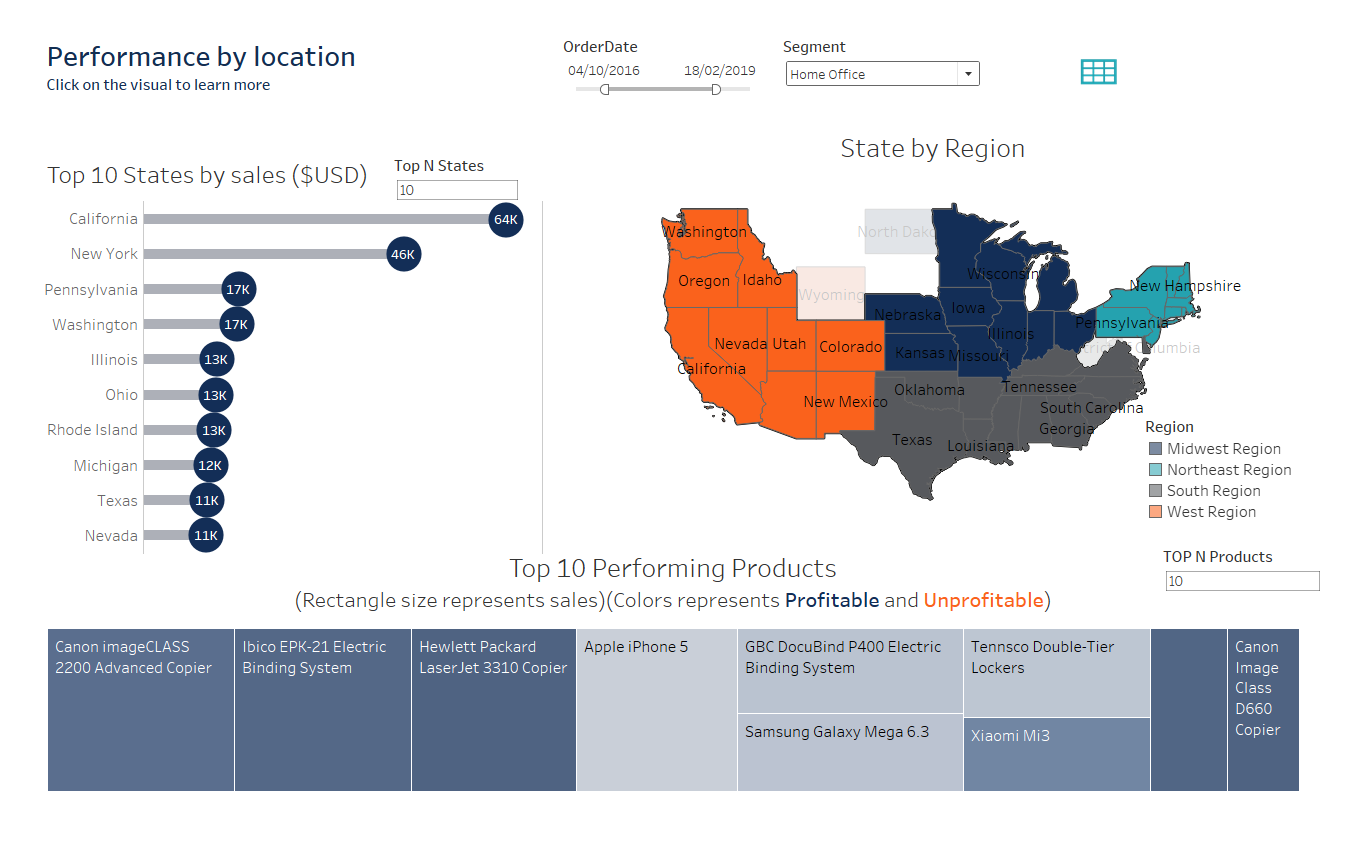

This screenshot's page, from the dashboard's own definition file:
{"tool":"tableau","page":{"name":"Performance by location Dashboard","canvas":[1300,800],"ordinal":0},"visuals":[{"type":"text","box":[20,20,500,60]},{"type":"filter","title":"SalesByState_LOL","param":"[federated.12y03hx0rq7voi18qg58o0swesog].[none:OrderDate:qk]","box":[540,20,200,60]},{"type":"filter","title":"SalesByState_LOL","param":"[federated.12y03hx0rq7voi18qg58o0swesog].[none:Segment:nk]","box":[760,20,200,60]},{"type":"dashboard-object","box":[1023,34,104,43]},{"type":"worksheet","title":"SalesByState","mark":"Automatic","rows":["State"],"cols":["OrderDate"],"box":[541,107,737,403]},{"type":"worksheet","title":"Sales_Map","mark":"Multipolygon","box":[540,110,740,400]},{"type":"worksheet","title":"SalesByState_LOL","mark":"Automatic","rows":["State"],"cols":["Sales","Sales"],"box":[20,138,500,400]},{"type":"parameter","param":"[Parameters].[Parameter 3]","box":[371,139,127,48]},{"type":"legend","title":"Sales_Map","param":"[federated.12y03hx0rq7voi18qg58o0swesog].[none:Region:nk]","box":[1122,400,152,106]},{"type":"worksheet","title":"TopProducts_Tree","mark":"Square","box":[20,530,1260,250]},{"type":"parameter","param":"[Parameters].[Parameter 4]","box":[1140,530,160,48]}]}

Visuals, with their boxes in screenshot pixels (x1, y1, x2, y2), scaled from the page's 1300x800 canvas onto the 1353x857 screenshot:
text: <box>21,21,541,86</box>
"SalesByState_LOL" filter: <box>562,21,770,86</box>
"SalesByState_LOL" filter: <box>791,21,999,86</box>
dashboard-object: <box>1065,36,1173,82</box>
"SalesByState" worksheet: <box>563,115,1330,546</box>
"Sales_Map" worksheet (Multipolygon marks): <box>562,118,1332,546</box>
"SalesByState_LOL" worksheet: <box>21,148,541,576</box>
parameter: <box>386,149,518,200</box>
"Sales_Map" legend: <box>1168,428,1326,542</box>
"TopProducts_Tree" worksheet (Square marks): <box>21,568,1332,836</box>
parameter: <box>1186,568,1352,619</box>
